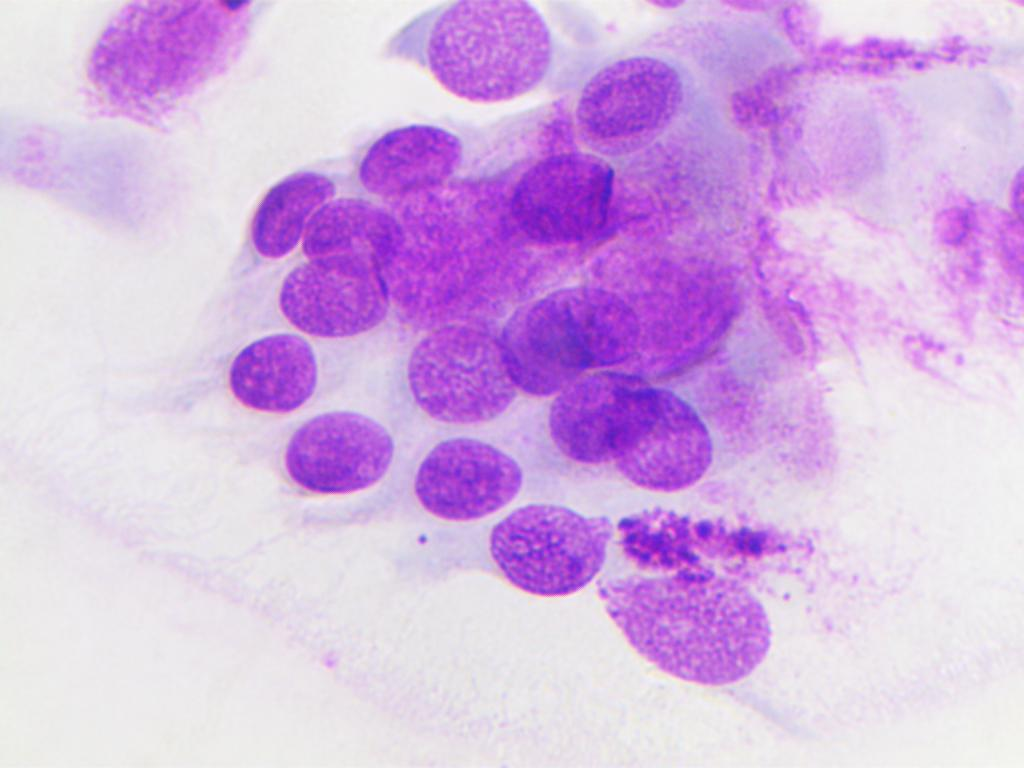epithelial: (79, 2, 289, 109), (591, 566, 781, 677), (256, 400, 395, 515), (390, 304, 510, 430), (422, 4, 562, 107), (479, 283, 592, 409), (569, 54, 693, 161), (472, 496, 606, 594), (537, 375, 669, 474), (518, 276, 656, 370), (397, 426, 535, 520), (607, 383, 714, 491), (274, 258, 396, 344), (193, 329, 321, 409), (349, 125, 470, 199), (302, 196, 407, 278), (251, 164, 337, 259)
goblet_cell: (503, 151, 625, 253)
